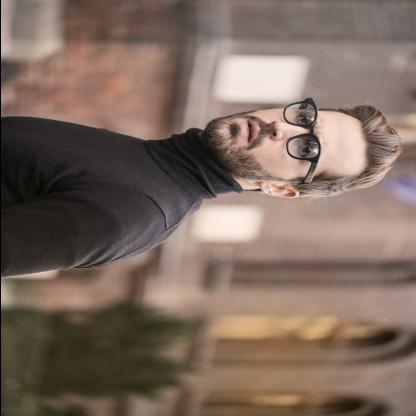Eye: (294, 141, 311, 158), (294, 113, 309, 125)
Mouth: (237, 119, 258, 145)
Nose: (268, 120, 309, 140)
